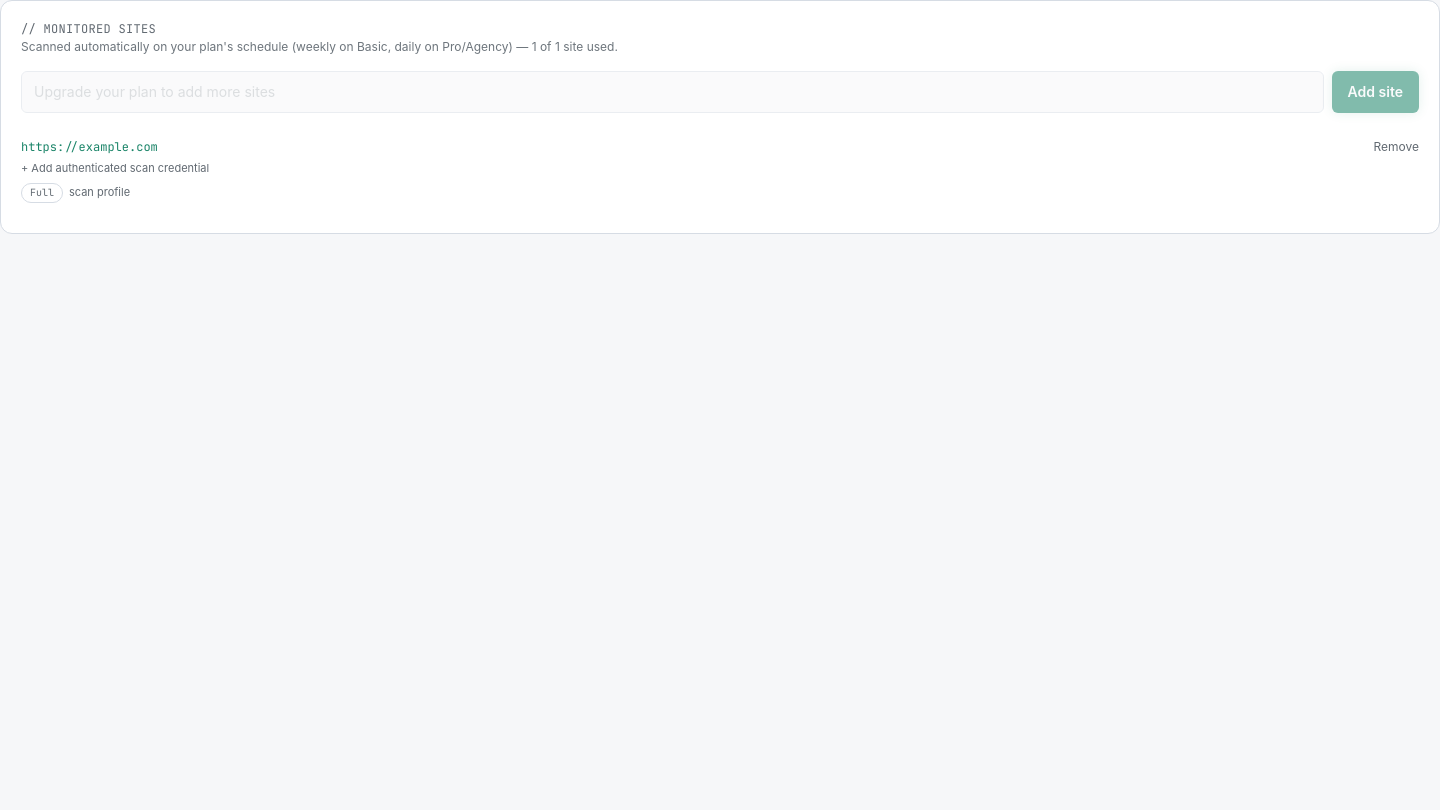
Test case: AuthenticatedScanConfig — recorded login › shows the server's error message and never submits again automatically on failure
Click the button "+ Add authenticated scan credential". click: (115, 169)
box: [21,161,209,177]
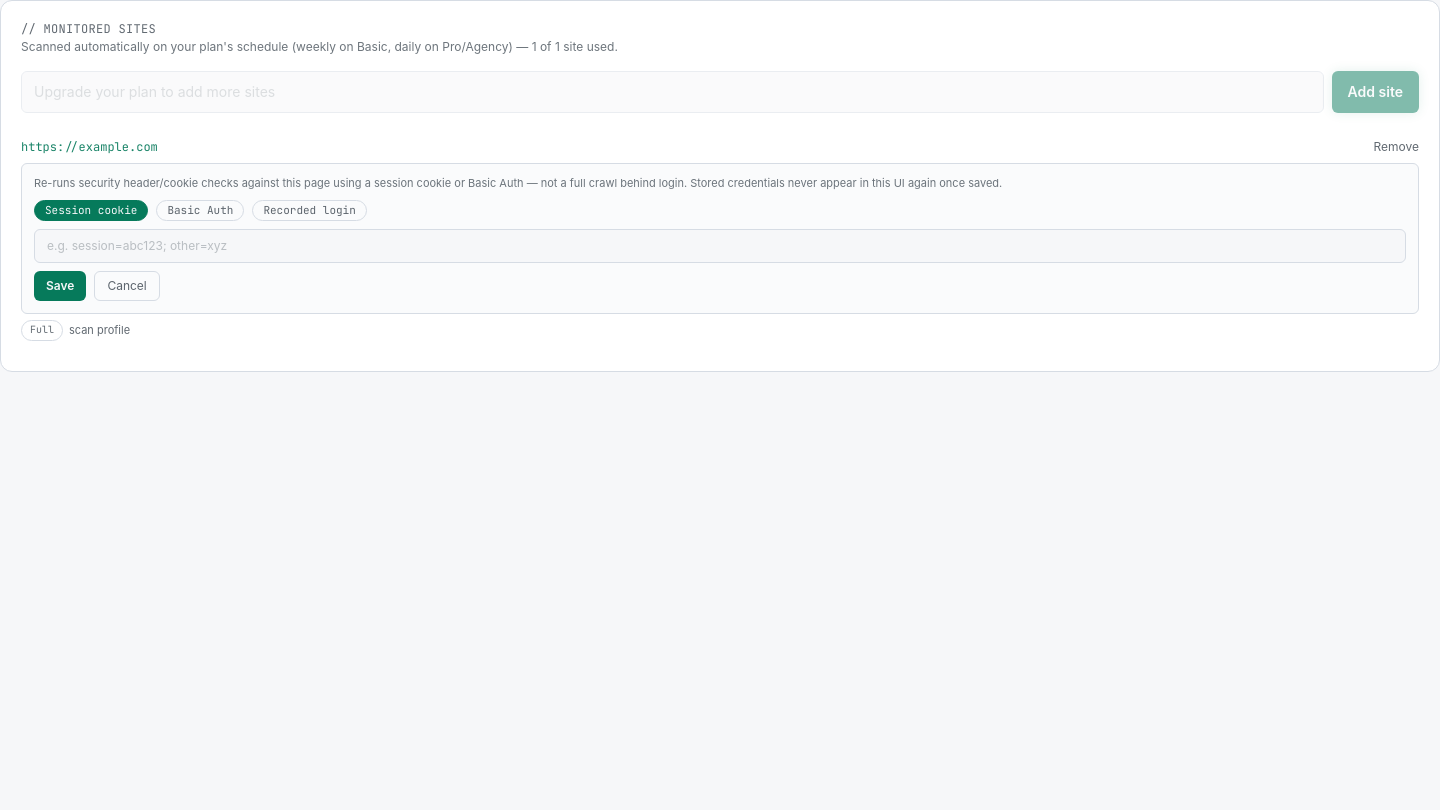
Click the button "Recorded login". click: (310, 211)
box: [252,200,367,221]
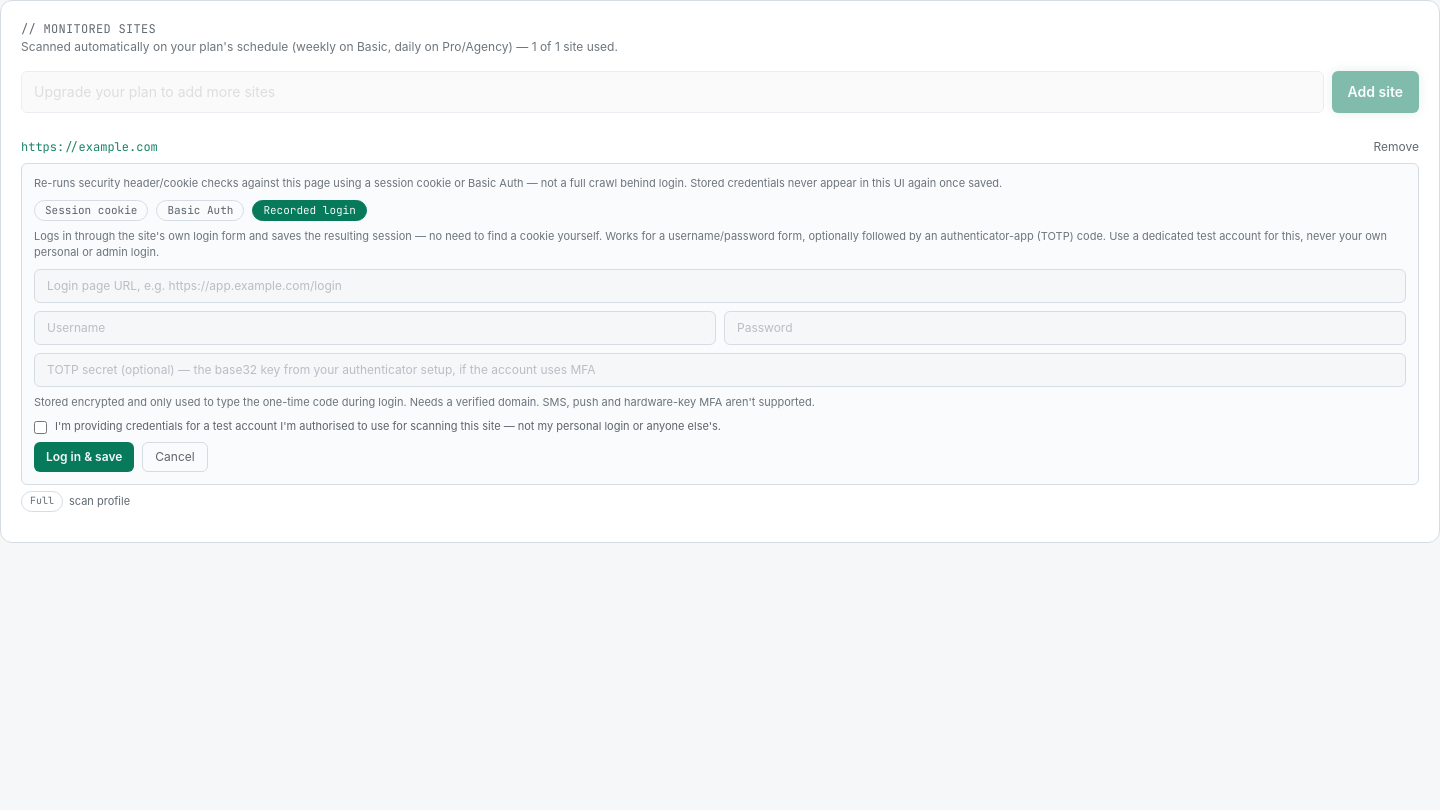
Type "https://example.com/login" into the field with placeholder "Login page URL, e.g. https://app.example.com/login". click: (720, 286)
box: [34,269,1406,303]
Type "test-account" into the field with placeholder "Username". click: (375, 328)
box: [34,311,716,345]
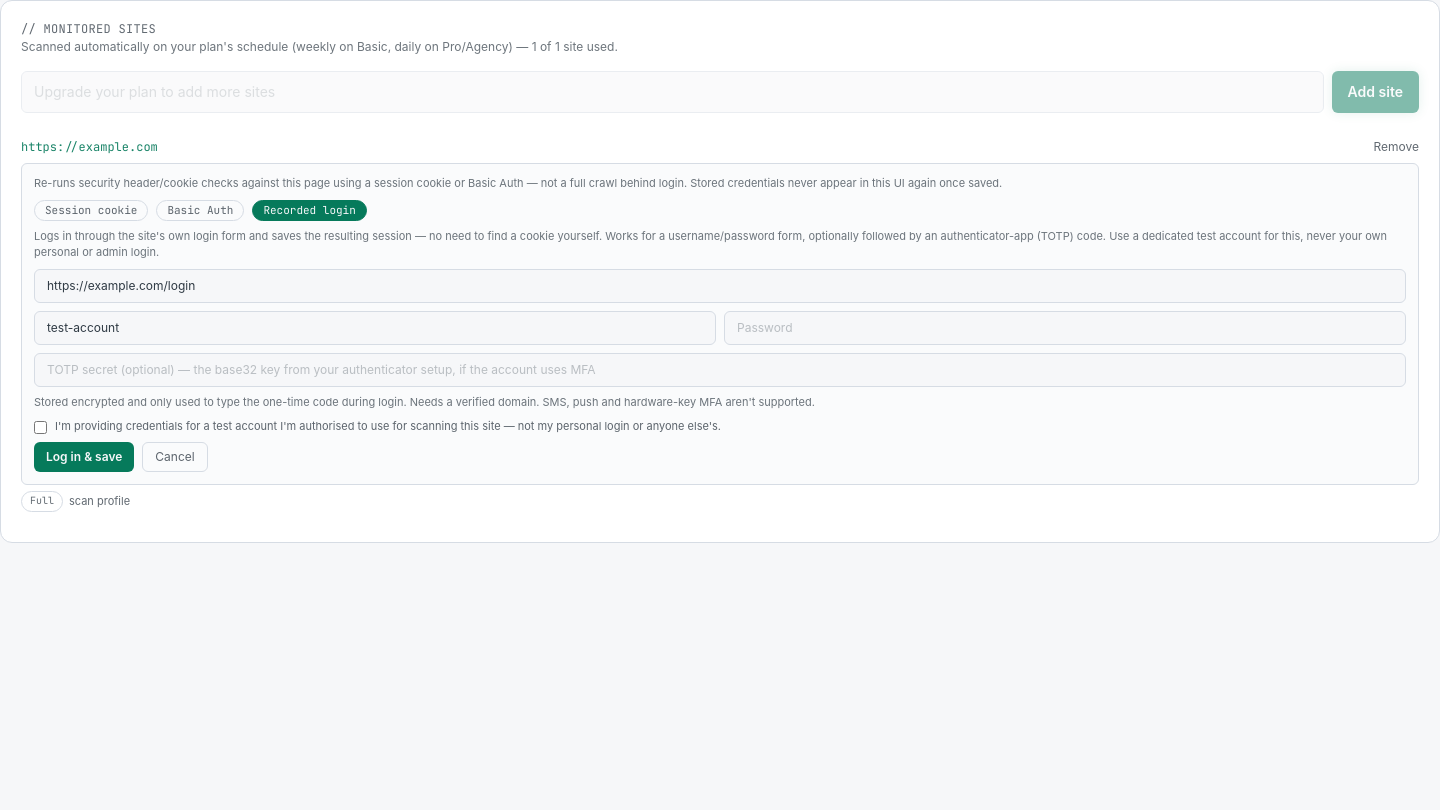
Type "wrong" into the password field with placeholder "Password". click: (1065, 328)
box: [724,311,1406,345]
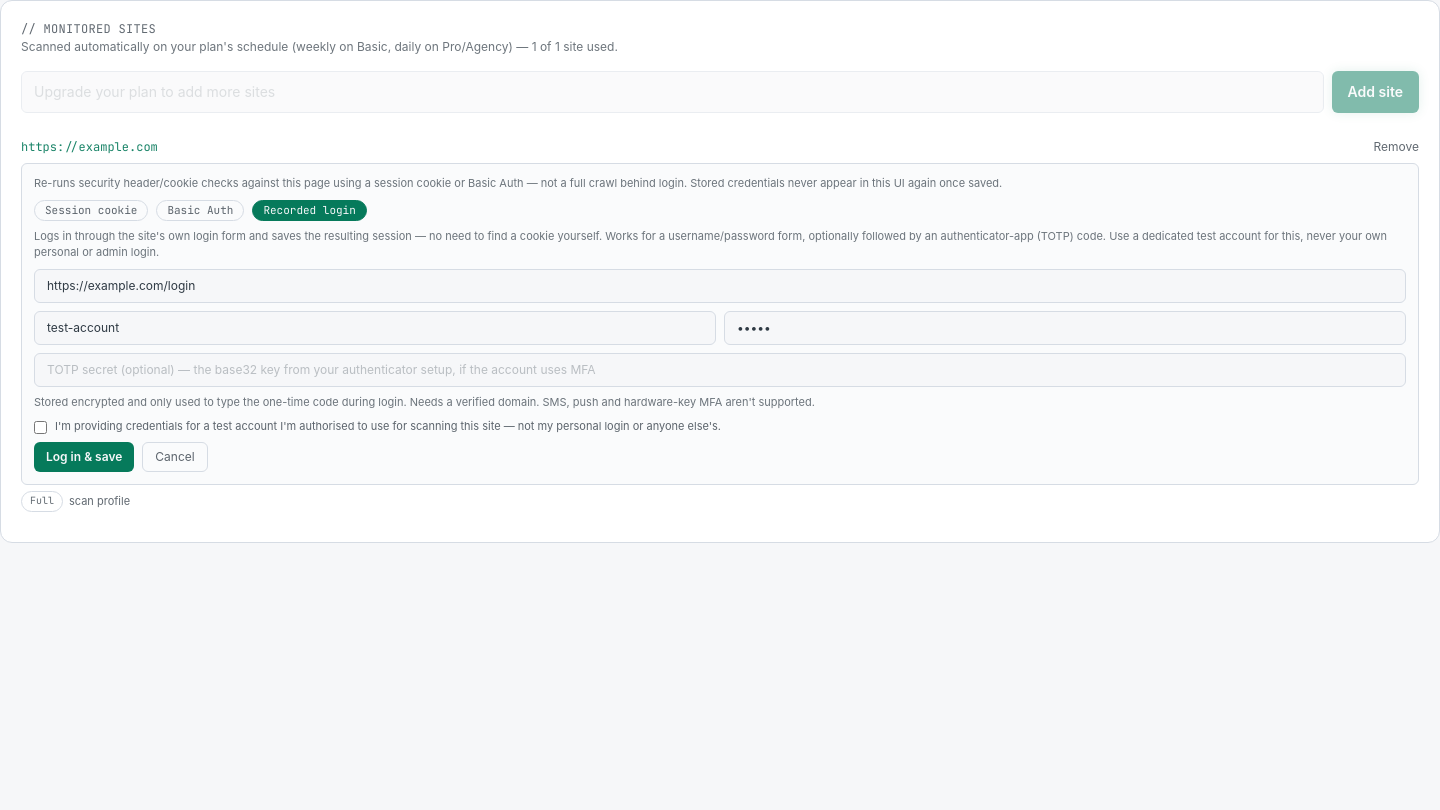
Click the checkbox. click: (40, 427)
box: [34,420,47,434]
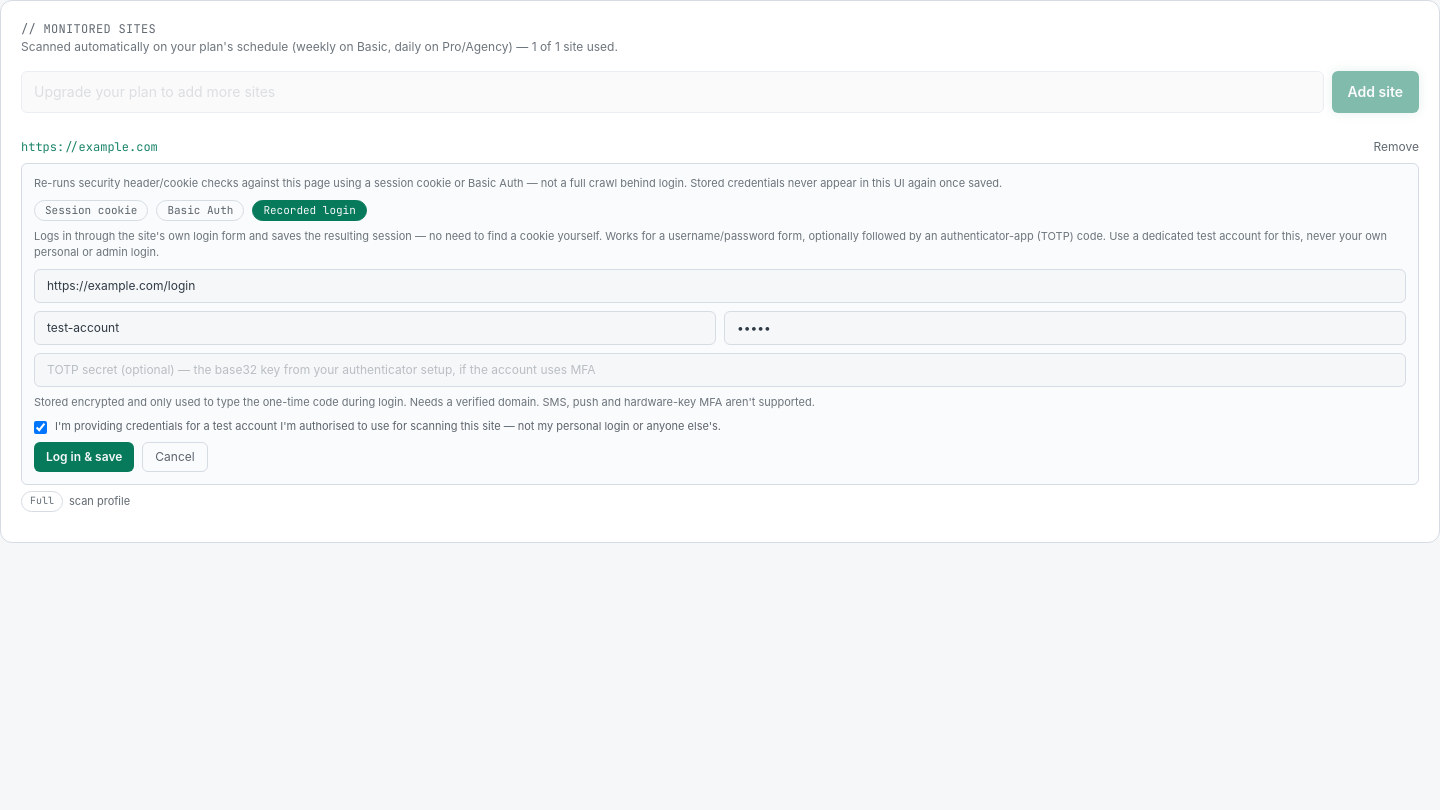
Click the button "Log in & save". click: (84, 457)
box: [34,442,134,472]
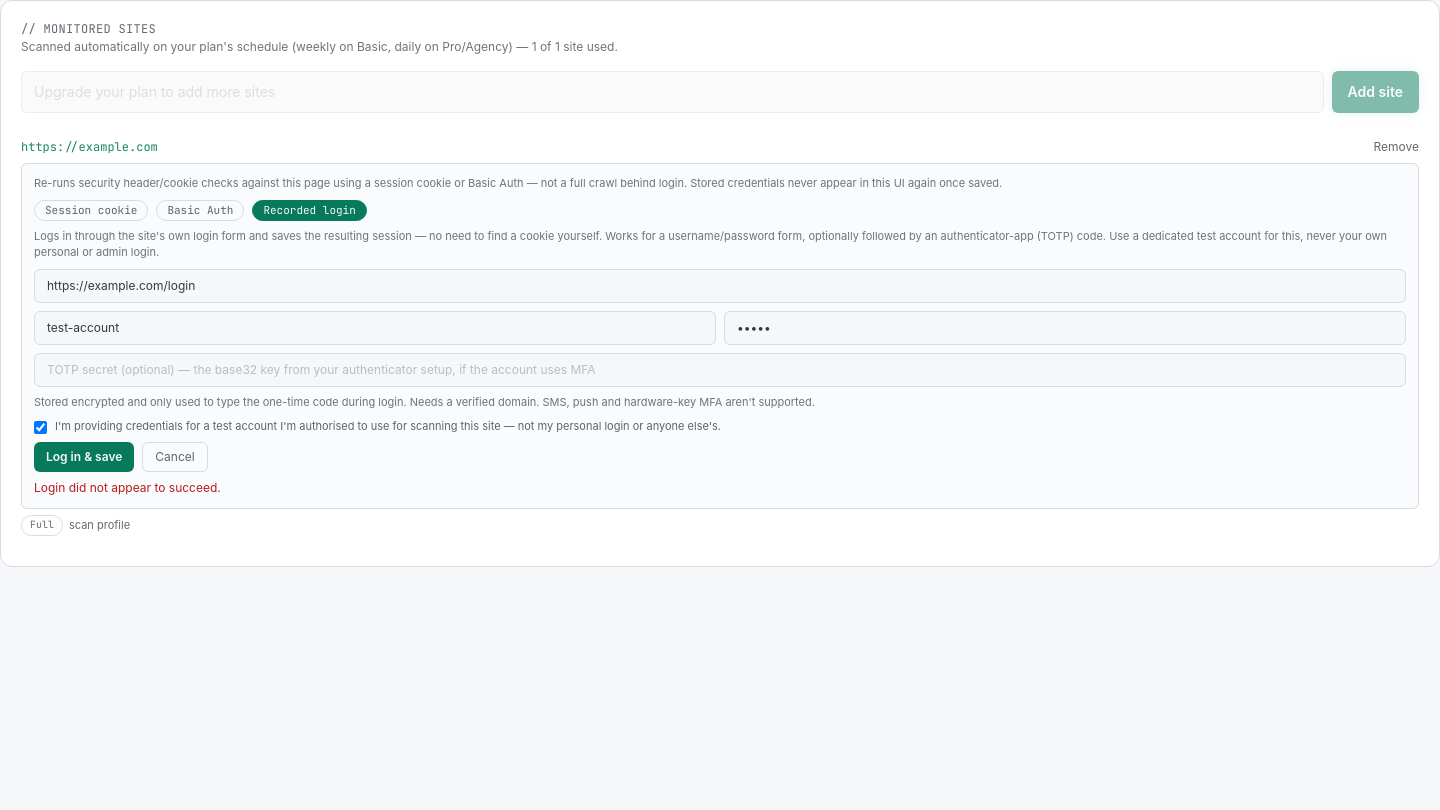
Expected: the text "Login did not appear to succeed." is shown, [34,480,221,495]
